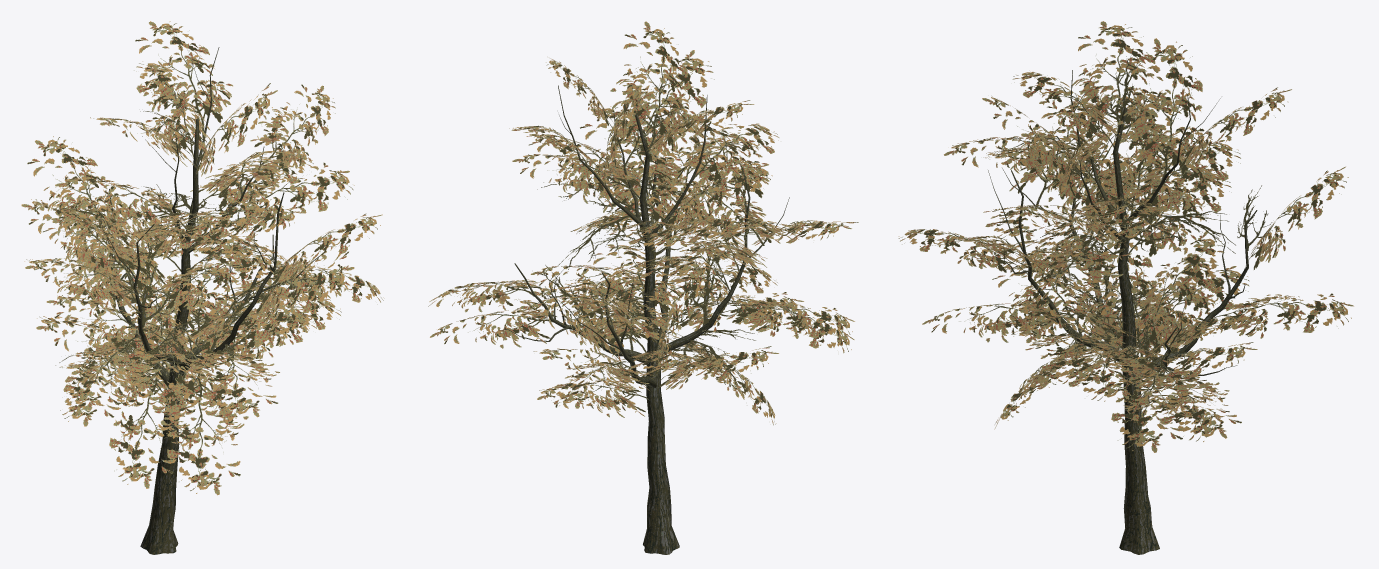
Rendered from tree_medium.fbx.
3 renders of one model, left to right at view 1: azimuth 30°, elevation 25°; view 2: azimuth 150°, elevation 25°; view 3: azimuth 270°, elevation 25°, orthographic. The views are drawn at different scales.
Visible parts, largest first — view 1: leafplanes_2_196_0_3; view 2: leafplanes_2_196_0_3; view 3: leafplanes_2_196_0_3.
Part boxes in pixels (x1,y1,x2,y2): leafplanes_2_196_0_3: [21, 21, 384, 554]; leafplanes_2_196_0_3: [428, 21, 858, 554]; leafplanes_2_196_0_3: [898, 21, 1353, 554].
Size of the model in its own units: 487 by 559 by 461.
